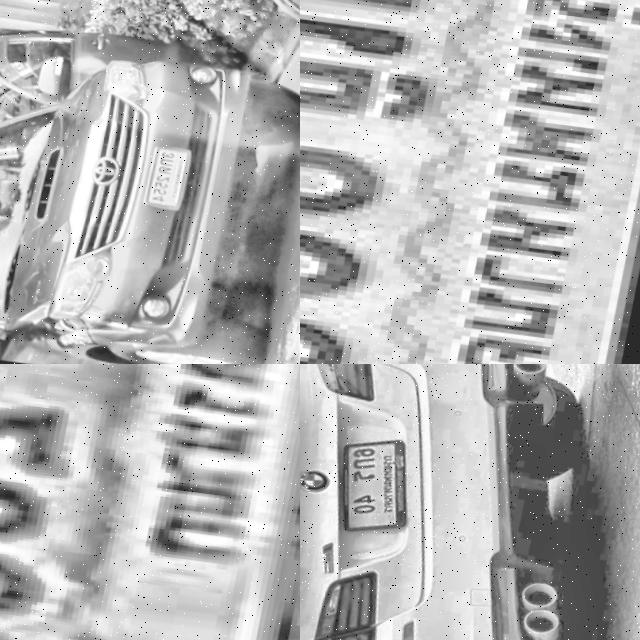license-plate: (300, 0, 640, 364), (0, 364, 300, 640), (320, 430, 427, 537), (147, 143, 200, 213)
